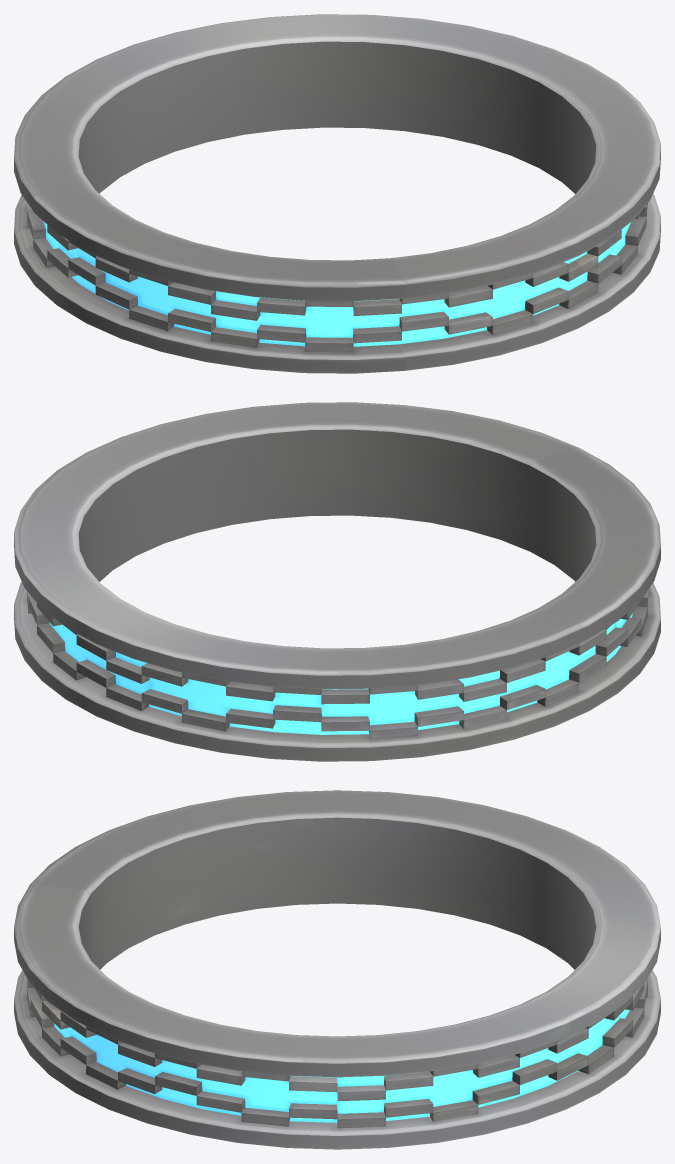
File: rings.gltf
The picture shows the model from 3 angles, top to bottom: view 1: azimuth 30°, elevation 25°; view 2: azimuth 150°, elevation 25°; view 3: azimuth 270°, elevation 25°; orthographic projection.
Parts seen in each view (by area): view 1: Ring001; view 2: Ring001; view 3: Ring001.
Part boxes in pixels (x1,y1,x2,y2): Ring001: [14, 14, 660, 373]; Ring001: [14, 402, 660, 761]; Ring001: [14, 790, 660, 1149].
Bounding box in the file's own units: 0.0328 × 0.00506 × 0.0328.
Materials: 1 (1 with a texture image).
